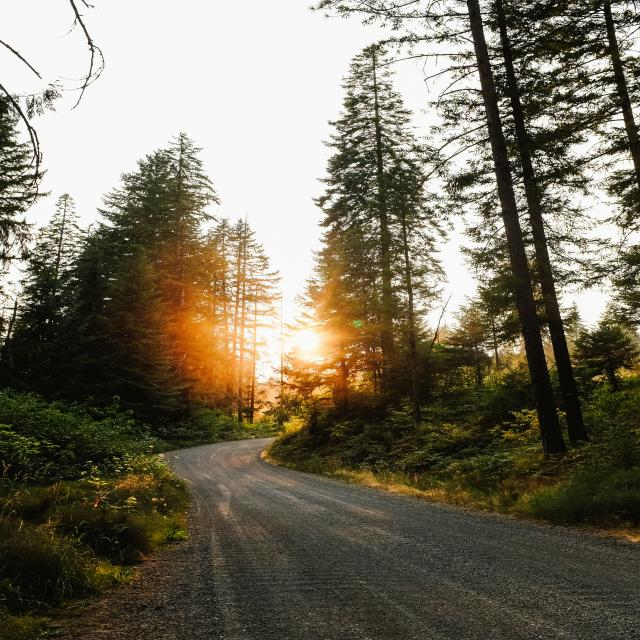Forest: (8, 0, 640, 640)
